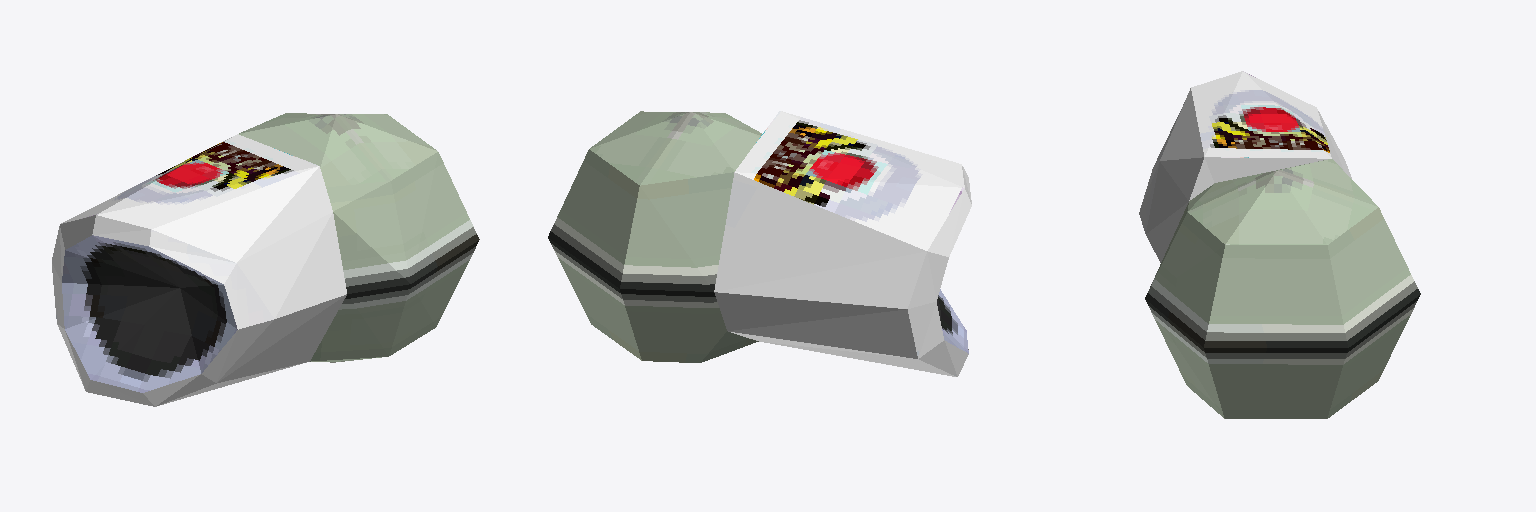
3 views of the same model, side by side, from view 1: azimuth 30°, elevation 25°; view 2: azimuth 150°, elevation 25°; view 3: azimuth 270°, elevation 25° (orthographic).
Visible parts, largest first — view 1: buzzlightyRightArm_buzzlighty.013; view 2: buzzlightyRightArm_buzzlighty.013; view 3: buzzlightyRightArm_buzzlighty.013.
Boxes of the visible parts, x1=… form: buzzlightyRightArm_buzzlighty.013: x1=52, y1=113, x2=479, y2=406; buzzlightyRightArm_buzzlighty.013: x1=548, y1=111, x2=971, y2=376; buzzlightyRightArm_buzzlighty.013: x1=1139, y1=71, x2=1420, y2=418.
Bounding box in the file's own units: 0.1718 × 0.1093 × 0.1128.
Materials: 1 (1 with a texture image).